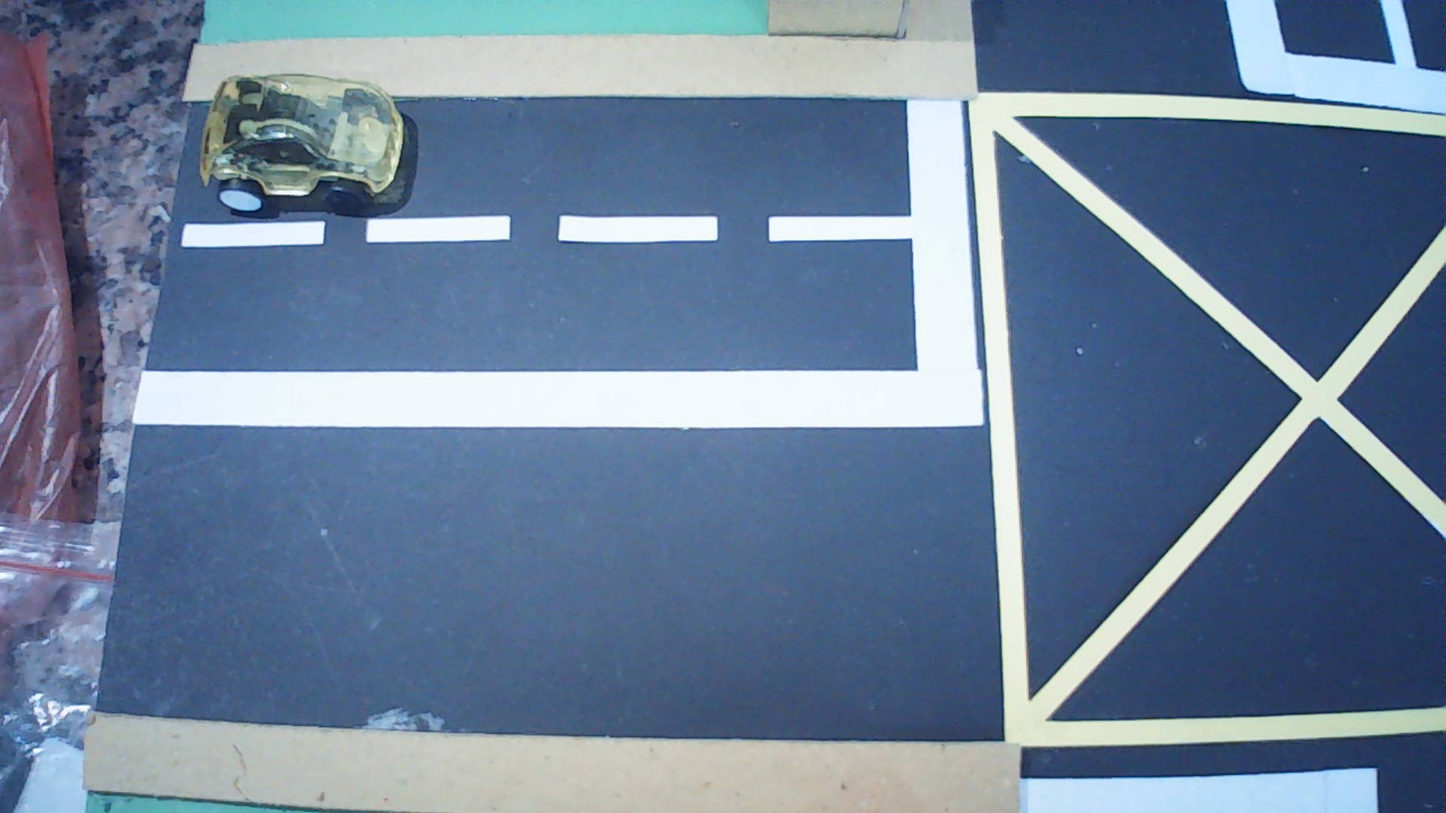Mobil kuning: (200, 75, 404, 213)
